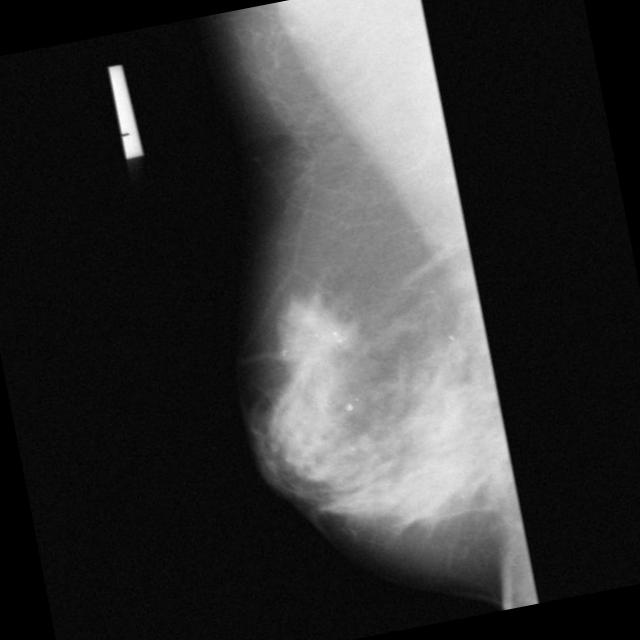ARCH: (277, 277, 398, 397)
